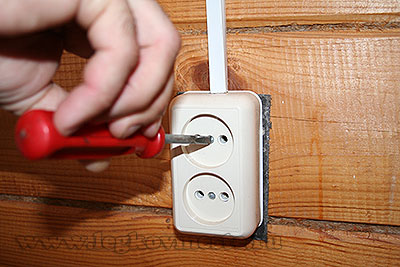raccoon: (179, 110, 235, 168), (181, 172, 236, 225)
